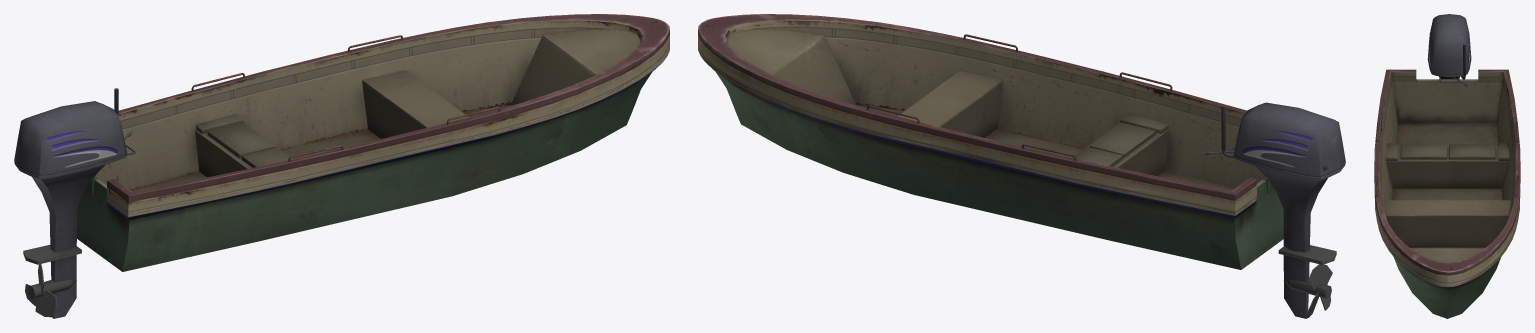
The picture shows the model from 3 angles, left to right: view 1: azimuth 30°, elevation 25°; view 2: azimuth 150°, elevation 25°; view 3: azimuth 270°, elevation 25°; orthographic projection. The views are drawn at different scales.
Visible parts, largest first — view 1: boat; view 2: boat; view 3: boat.
Part boxes in pixels (x1,y1,x2,y2): boat: (14, 14, 669, 318); boat: (698, 14, 1345, 318); boat: (1374, 14, 1520, 318).
Bounding box in the file's own units: 270 × 81.97 × 74.4.
Materials: 1 (1 with a texture image).
